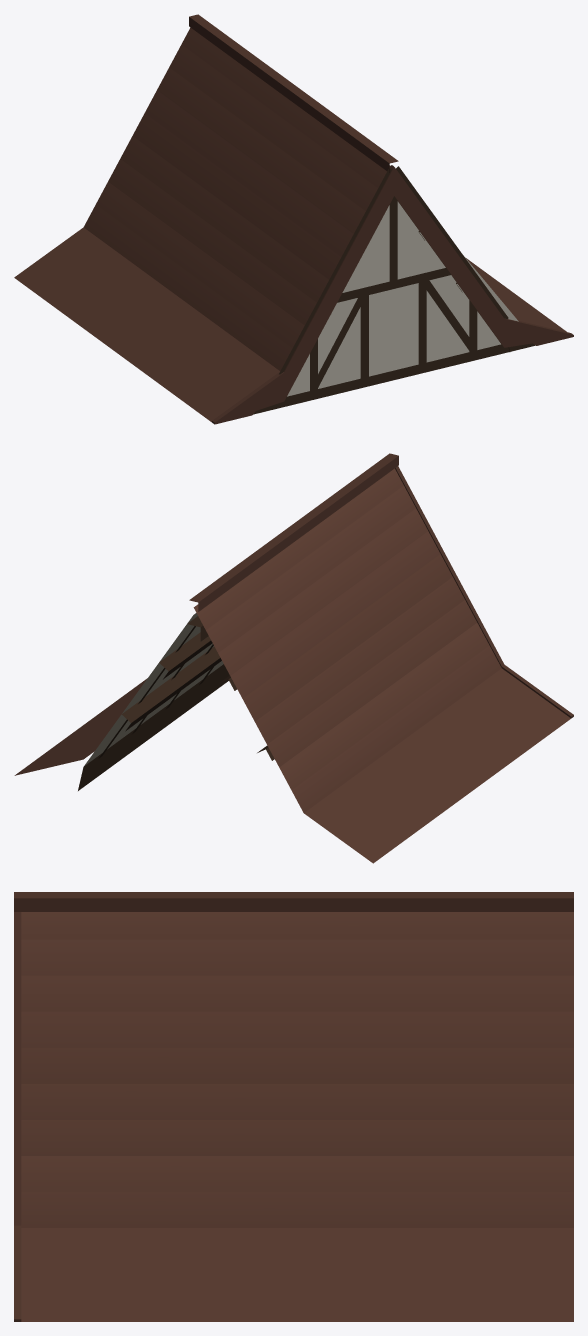
The model's file is roof.gable_swept.half_timber.glb.
3 renders of one model, top to bottom at view 1: azimuth 30°, elevation 25°; view 2: azimuth 150°, elevation 25°; view 3: azimuth 270°, elevation 25°, orthographic. The views are drawn at different scales.
Visible parts, largest first — view 1: roof_gable_swept_half_timber; view 2: roof_gable_swept_half_timber; view 3: roof_gable_swept_half_timber.
Boxes of the visible parts, x1,y1,x2,y2 form: roof_gable_swept_half_timber: [14, 14, 573, 424]; roof_gable_swept_half_timber: [14, 453, 573, 863]; roof_gable_swept_half_timber: [14, 892, 573, 1321].
Size of what is drawn, in the model's own units: 6.2 by 3.6 by 6.
